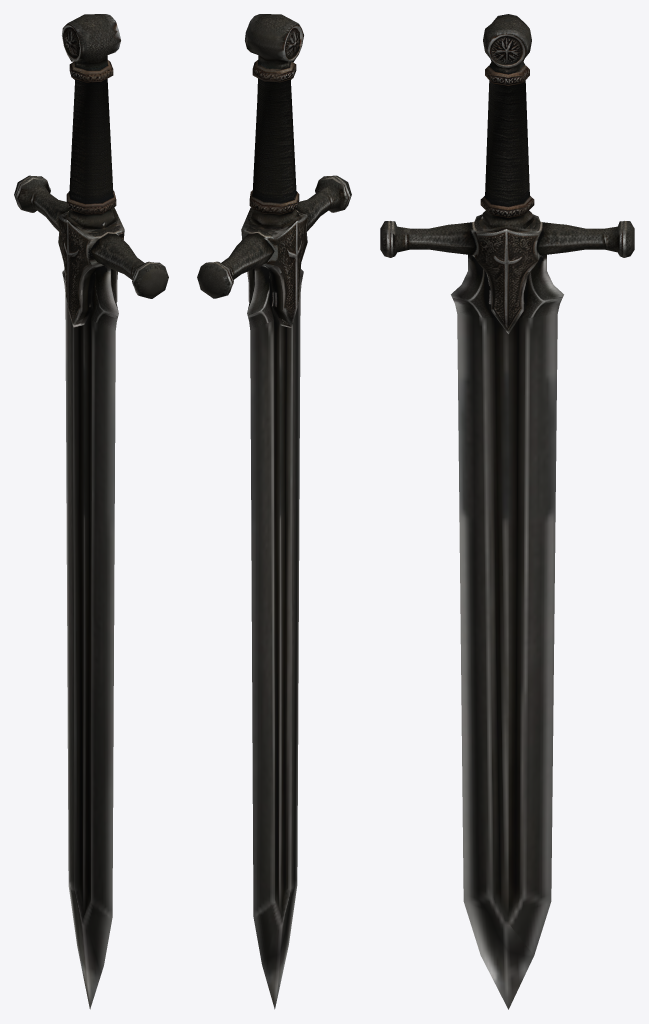
Rendered from tripo_convert_9aaeefe0-dd9c-4607-90e0-158b1346d362.fbx.
The picture shows the model from 3 angles, left to right: view 1: azimuth 30°, elevation 25°; view 2: azimuth 150°, elevation 25°; view 3: azimuth 270°, elevation 25°; orthographic projection.
Parts seen in each view (by area): view 1: tripo_node_9aaeefe0; view 2: tripo_node_9aaeefe0; view 3: tripo_node_9aaeefe0.
Part boxes in pixels (<box>): tripo_node_9aaeefe0: <box>14,14,168,1009</box>; tripo_node_9aaeefe0: <box>197,14,351,1009</box>; tripo_node_9aaeefe0: <box>380,14,634,1009</box>.
Size of the model in its own units: 0.0488 by 0.998 by 0.2324.
